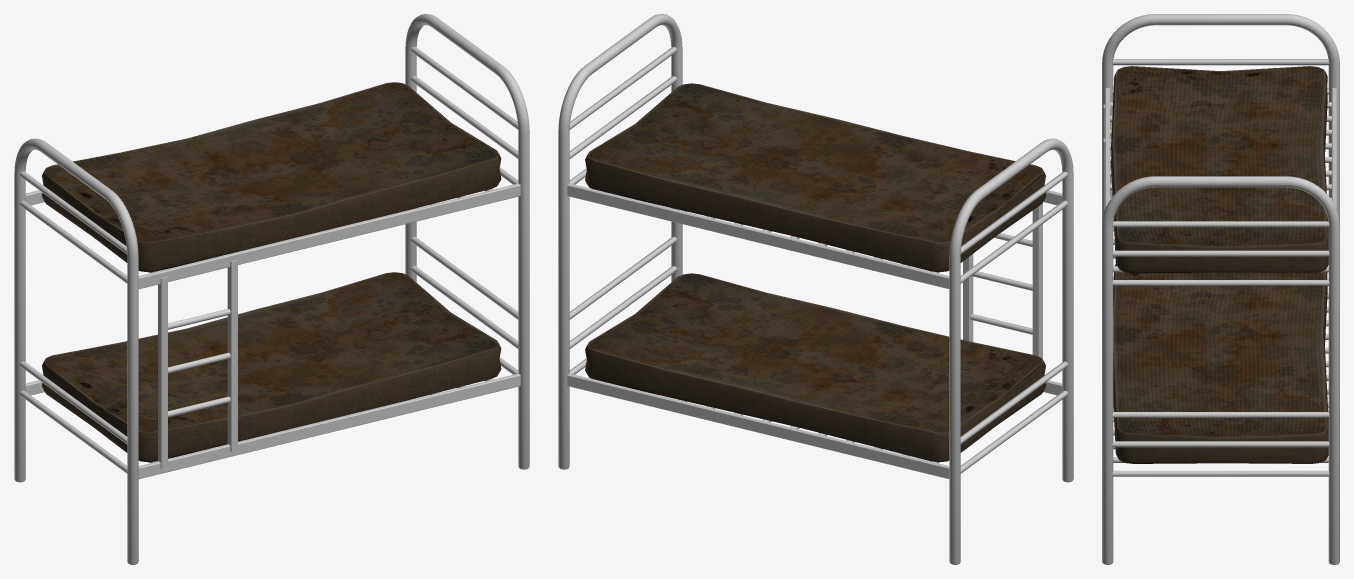
Rendered from bed_2.fbx.
3 views of the same model, side by side, from view 1: azimuth 30°, elevation 25°; view 2: azimuth 150°, elevation 25°; view 3: azimuth 270°, elevation 25° (orthographic).
Visible parts, largest first — view 1: bed_2; view 2: bed_2; view 3: bed_2.
Part boxes in pixels (x1,y1,x2,y2): bed_2: [14, 14, 529, 564]; bed_2: [558, 14, 1073, 564]; bed_2: [1102, 14, 1339, 564].
Size of the model in its own units: 2.87 by 1.47 by 2.64.
